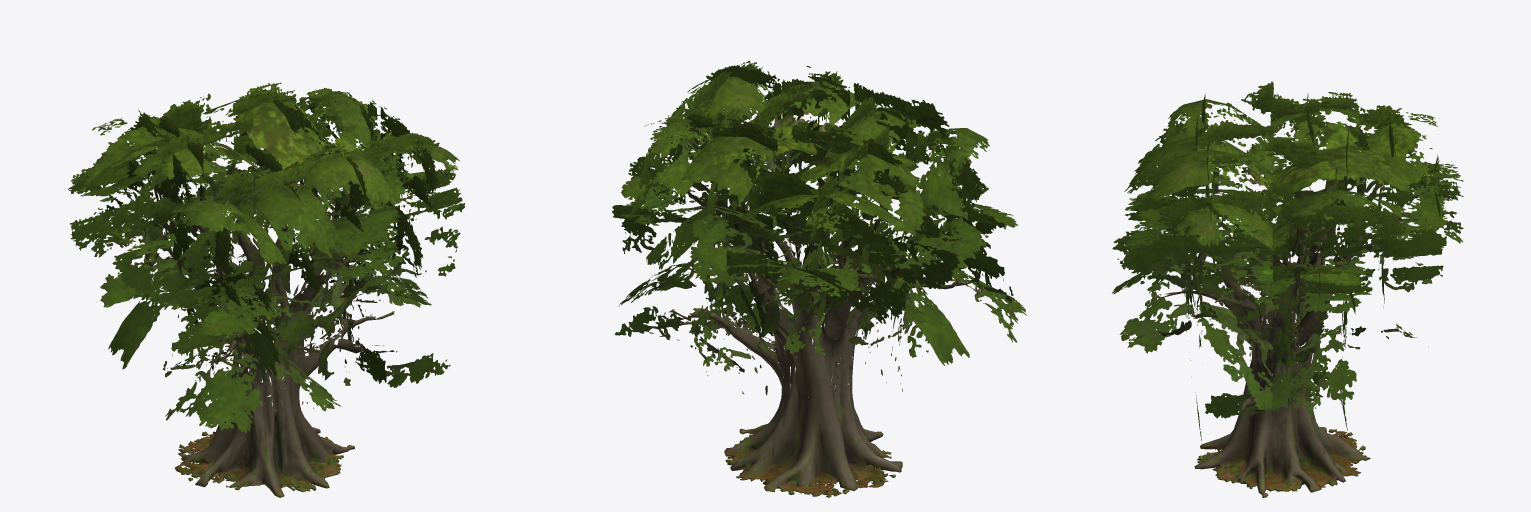
Rendered from tree-0208-near.glb.
3 renders of one model, left to right at view 1: azimuth 30°, elevation 25°; view 2: azimuth 150°, elevation 25°; view 3: azimuth 270°, elevation 25°, orthographic. The views are drawn at different scales.
Visible parts, largest first — view 1: Foliage, Wood; view 2: Foliage, Wood; view 3: Foliage, Wood.
Boxes of the visible parts, <box> form: Foliage: <box>67,82,465,433</box>; Wood: <box>124,181,397,497</box>; Foliage: <box>612,60,1027,395</box>; Wood: <box>662,181,984,497</box>; Foliage: <box>1112,81,1463,440</box>; Wood: <box>1151,183,1420,497</box>.
Bounding box in the file's own units: 12.5 × 13.25 × 13.3.
Materials: 2 (2 with a texture image).
